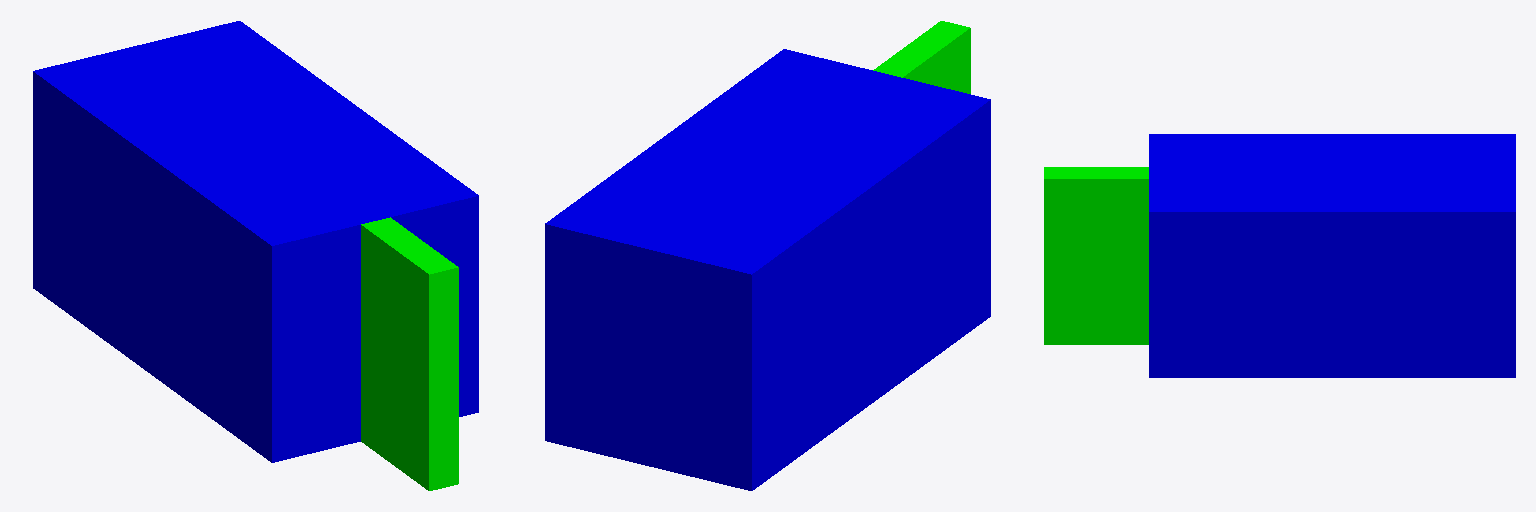
The robot description file, URDF, robot "robot":
<robot name = "robot">
    <link name="root">
        <inertial>
            <origin xyz="0.0 0.0 1.5" rpy="0 0 0"/>
            <mass value="1" />
            <inertia ixx="100" ixy="0" ixz="0" iyy="100" iyz="0" izz="100" />
        </inertial>
        <visual>
            <origin xyz="0.0 0.0 1.5" rpy="0 0 0"/>
            <geometry>
                <box size="0 0 0.0001" />
            </geometry>
            <material name="Green">
                <color rgba="0 1.0 0.0 1.0"/>
            </material>
        </visual>
        <collision>
            <origin xyz="0.0 0.0 1.5" rpy="0 0 0"/>
            <geometry>
                <box size="0 0 0.0001" />
            </geometry>
        </collision>
    </link>
    <joint name="root_000" type="revolute">
       <parent link="root"/>
       <child  link="000"/>
       <origin rpy="0 0 0" xyz="0.0 0.0 1.5" />
     <axis xyz="1 0 0"/>
       <limit effort="0.0" lower="-3.14159" upper="3.14159" velocity="0.0"/>
    </joint>
    <link name="000">
        <inertial>
            <origin xyz="0.05 0.0 0.0" rpy="0 0 0"/>
            <mass value="1" />
            <inertia ixx="100" ixy="0" ixz="0" iyy="100" iyz="0" izz="100" />
        </inertial>
        <visual>
            <origin xyz="0.05 0.0 0.0" rpy="0 0 0"/>
            <geometry>
                <box size="0.1 0.4 0.7" />
            </geometry>
            <material name="Green">
                <color rgba="0 1.0 0.0 1.0"/>
            </material>
        </visual>
        <collision>
            <origin xyz="0.05 0.0 0.0" rpy="0 0 0"/>
            <geometry>
                <box size="0.1 0.4 0.7" />
            </geometry>
        </collision>
    </link>
    <joint name="000_000-100" type="revolute">
       <parent link="000"/>
       <child  link="000-100"/>
       <origin rpy="0 0 0" xyz="0.05 0.2 -0.0" />
     <axis xyz="0 1 0"/>
       <limit effort="0.0" lower="-3.14159" upper="3.14159" velocity="0.0"/>
    </joint>
    <link name="000-100">
        <inertial>
            <origin xyz="0.0 0.35 -0.0" rpy="0 0 0"/>
            <mass value="1" />
            <inertia ixx="100" ixy="0" ixz="0" iyy="100" iyz="0" izz="100" />
        </inertial>
        <visual>
            <origin xyz="0.0 0.35 -0.0" rpy="0 0 0"/>
            <geometry>
                <box size="0.7 0.7 0.7" />
            </geometry>
            <material name="Blue">
                <color rgba="0 0.0 1.0 1.0"/>
            </material>
        </visual>
        <collision>
            <origin xyz="0.0 0.35 -0.0" rpy="0 0 0"/>
            <geometry>
                <box size="0.7 0.7 0.7" />
            </geometry>
        </collision>
    </link>
    <joint name="000-100_000-110" type="revolute">
       <parent link="000-100"/>
       <child  link="000-110"/>
       <origin rpy="0 0 0" xyz="0.0 0.7 -0.0" />
     <axis xyz="0 1 0"/>
       <limit effort="0.0" lower="-3.14159" upper="3.14159" velocity="0.0"/>
    </joint>
    <link name="000-110">
        <inertial>
            <origin xyz="0.0 0.35 -0.0" rpy="0 0 0"/>
            <mass value="1" />
            <inertia ixx="100" ixy="0" ixz="0" iyy="100" iyz="0" izz="100" />
        </inertial>
        <visual>
            <origin xyz="0.0 0.35 -0.0" rpy="0 0 0"/>
            <geometry>
                <box size="0.7 0.7 0.7" />
            </geometry>
            <material name="Blue">
                <color rgba="0 0.0 1.0 1.0"/>
            </material>
        </visual>
        <collision>
            <origin xyz="0.0 0.35 -0.0" rpy="0 0 0"/>
            <geometry>
                <box size="0.7 0.7 0.7" />
            </geometry>
        </collision>
    </link>
</robot>

--- What the picture shows (computed from the rendered views, not written in the file) ---
The picture shows the robot from 3 angles, left to right: view 1: azimuth 30°, elevation 25°; view 2: azimuth 150°, elevation 25°; view 3: azimuth 270°, elevation 25°; orthographic projection.
Model robot with 4 links and 3 joints (3 revolute), rooted at root, posed all joints at 0.
Visible links, largest first — view 1: 000-100, 000-110, 000; view 2: 000-110, 000-100, 000; view 3: 000-110, 000-100, 000.
Boxes of the visible links, x1=… form: 000-100: x1=152, y1=108, x2=478, y2=462; 000-110: x1=33, y1=21, x2=358, y2=374; 000: x1=361, y1=217, x2=458, y2=490; 000-110: x1=545, y1=136, x2=871, y2=490; 000-100: x1=665, y1=49, x2=990, y2=402; 000: x1=873, y1=21, x2=970, y2=93; 000-110: x1=1332, y1=134, x2=1515, y2=377; 000-100: x1=1149, y1=134, x2=1331, y2=377; 000: x1=1044, y1=167, x2=1148, y2=344.
Size in the robot's own frame: 0.7 by 1.8 by 0.7 metres.
Geometry: primitives only (box / cylinder / sphere), no mesh files.
